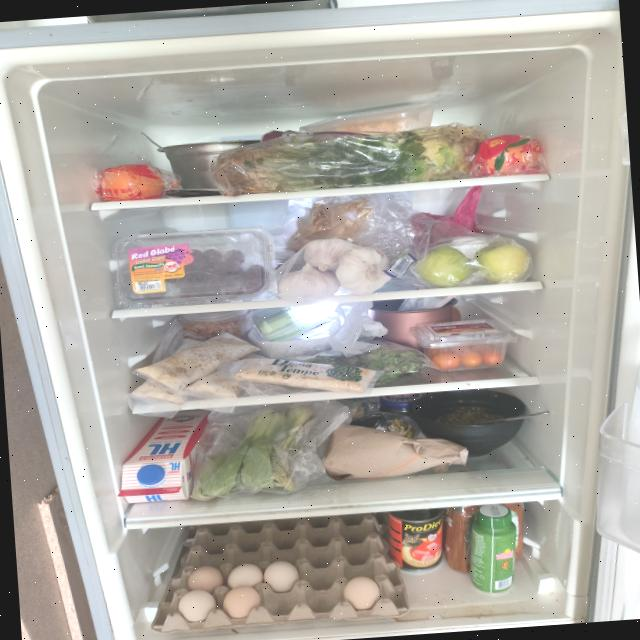apple: (414, 242, 472, 290), (472, 240, 530, 284)
egg: (144, 510, 410, 634)
garlic: (274, 234, 394, 302)
grape: (141, 243, 266, 300)
leafy_greens: (210, 120, 482, 196)
orange: (477, 132, 543, 178), (100, 162, 167, 204)
pakchoy: (186, 403, 320, 502)
tempeh: (128, 328, 272, 406), (233, 349, 378, 402)
